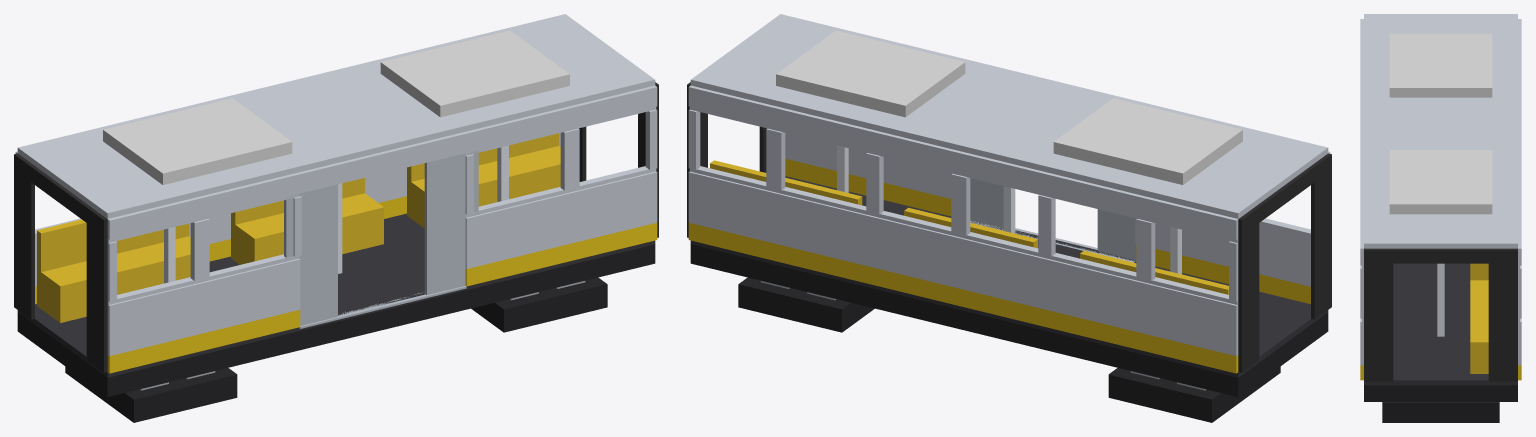
The model's file is metro_wagon_half_l4.obj.
3 views of the same model, side by side, from view 1: azimuth 30°, elevation 25°; view 2: azimuth 150°, elevation 25°; view 3: azimuth 270°, elevation 25° (orthographic). The views are drawn at different scales.
Bounding box in the file's own units: 3 × 1.26 × 0.88.
